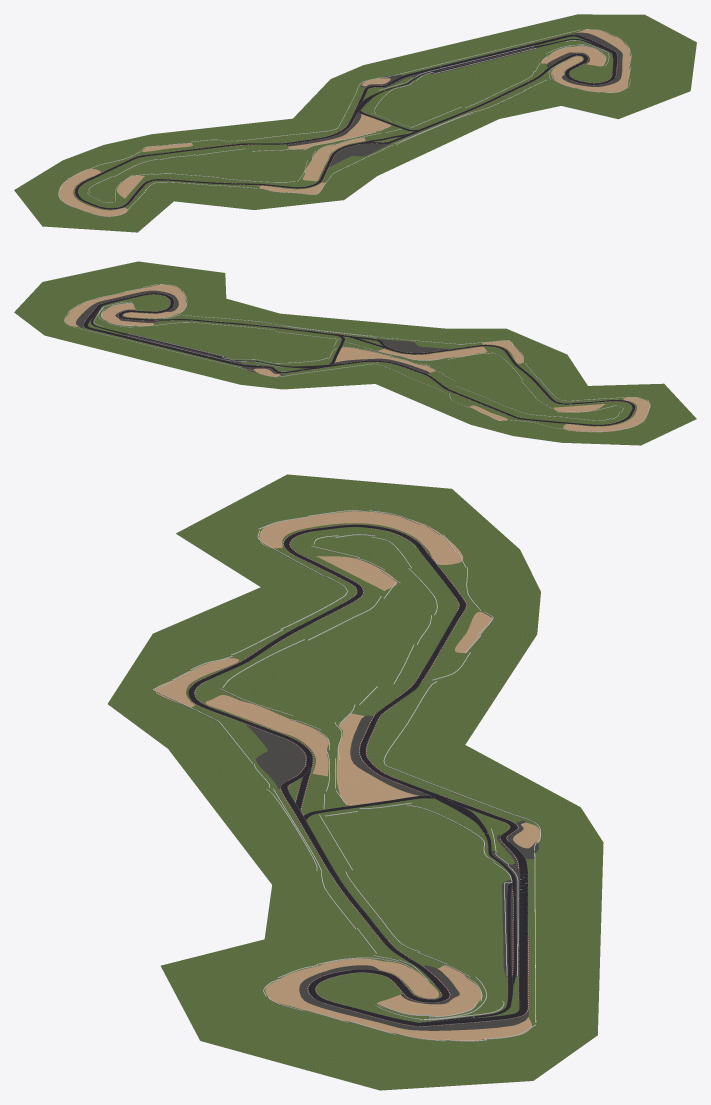
Rendered from assen.glb.
3 renders of one model, top to bottom at view 1: azimuth 30°, elevation 25°; view 2: azimuth 150°, elevation 25°; view 3: azimuth 270°, elevation 25°, orthographic. The views are drawn at different scales.
Visible parts, largest first — view 1: Grass_mesh, GravelTrap_mesh, Road_mesh, SafeBarrier_mesh, Asphalt_mesh, Curbstones_mesh; view 2: Grass_mesh, GravelTrap_mesh, Road_mesh, SafeBarrier_mesh, Asphalt_mesh, Curbstones_mesh; view 3: Grass_mesh, GravelTrap_mesh, Road_mesh, Asphalt_mesh, SafeBarrier_mesh, Curbstones_mesh.
Part boxes in pixels (x1=…): Grass_mesh: x1=14, y1=14, x2=696, y2=232; GravelTrap_mesh: x1=58, y1=29, x2=630, y2=216; Road_mesh: x1=75, y1=34, x2=617, y2=209; SafeBarrier_mesh: x1=58, y1=29, x2=631, y2=217; Asphalt_mesh: x1=286, y1=32, x2=622, y2=166; Curbstones_mesh: x1=74, y1=34, x2=617, y2=209; Grass_mesh: x1=14, y1=261, x2=696, y2=445; GravelTrap_mesh: x1=64, y1=284, x2=650, y2=432; Road_mesh: x1=83, y1=293, x2=635, y2=425; SafeBarrier_mesh: x1=64, y1=284, x2=650, y2=432; Asphalt_mesh: x1=75, y1=290, x2=449, y2=375; Curbstones_mesh: x1=83, y1=292, x2=635, y2=426; Grass_mesh: x1=108, y1=474, x2=603, y2=1090; GravelTrap_mesh: x1=154, y1=511, x2=540, y2=1040; Road_mesh: x1=188, y1=524, x2=528, y2=1026; Asphalt_mesh: x1=246, y1=715, x2=538, y2=1030; SafeBarrier_mesh: x1=152, y1=510, x2=540, y2=1041; Curbstones_mesh: x1=189, y1=524, x2=528, y2=1026.
Bounding box in the file's own units: 2128 × 1 × 724.
7 materials, 6 textured.
